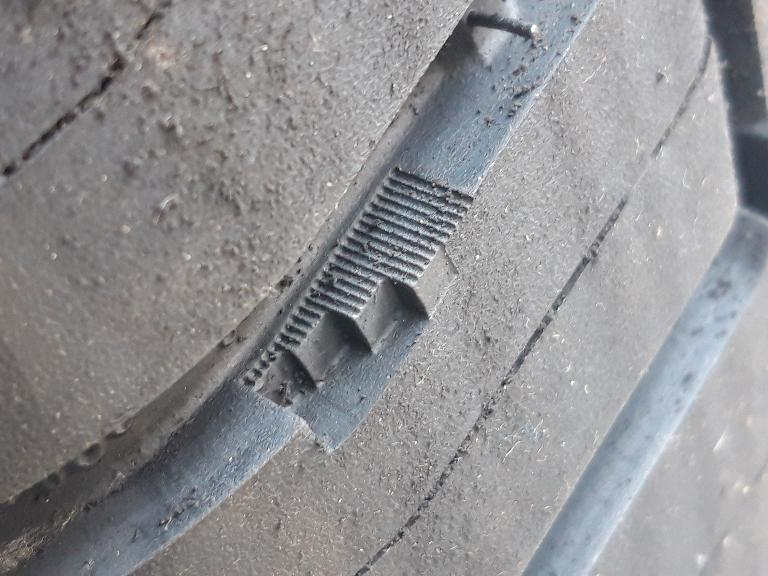temoin:75: (224, 212, 468, 467)
